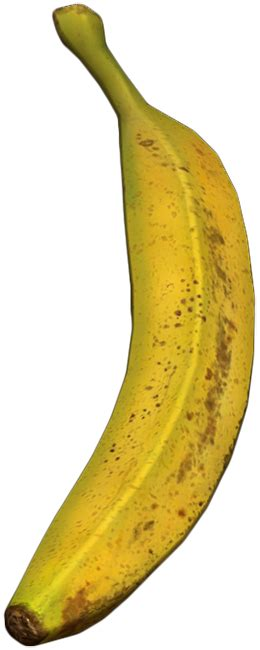banana: (4, 93, 260, 650)
